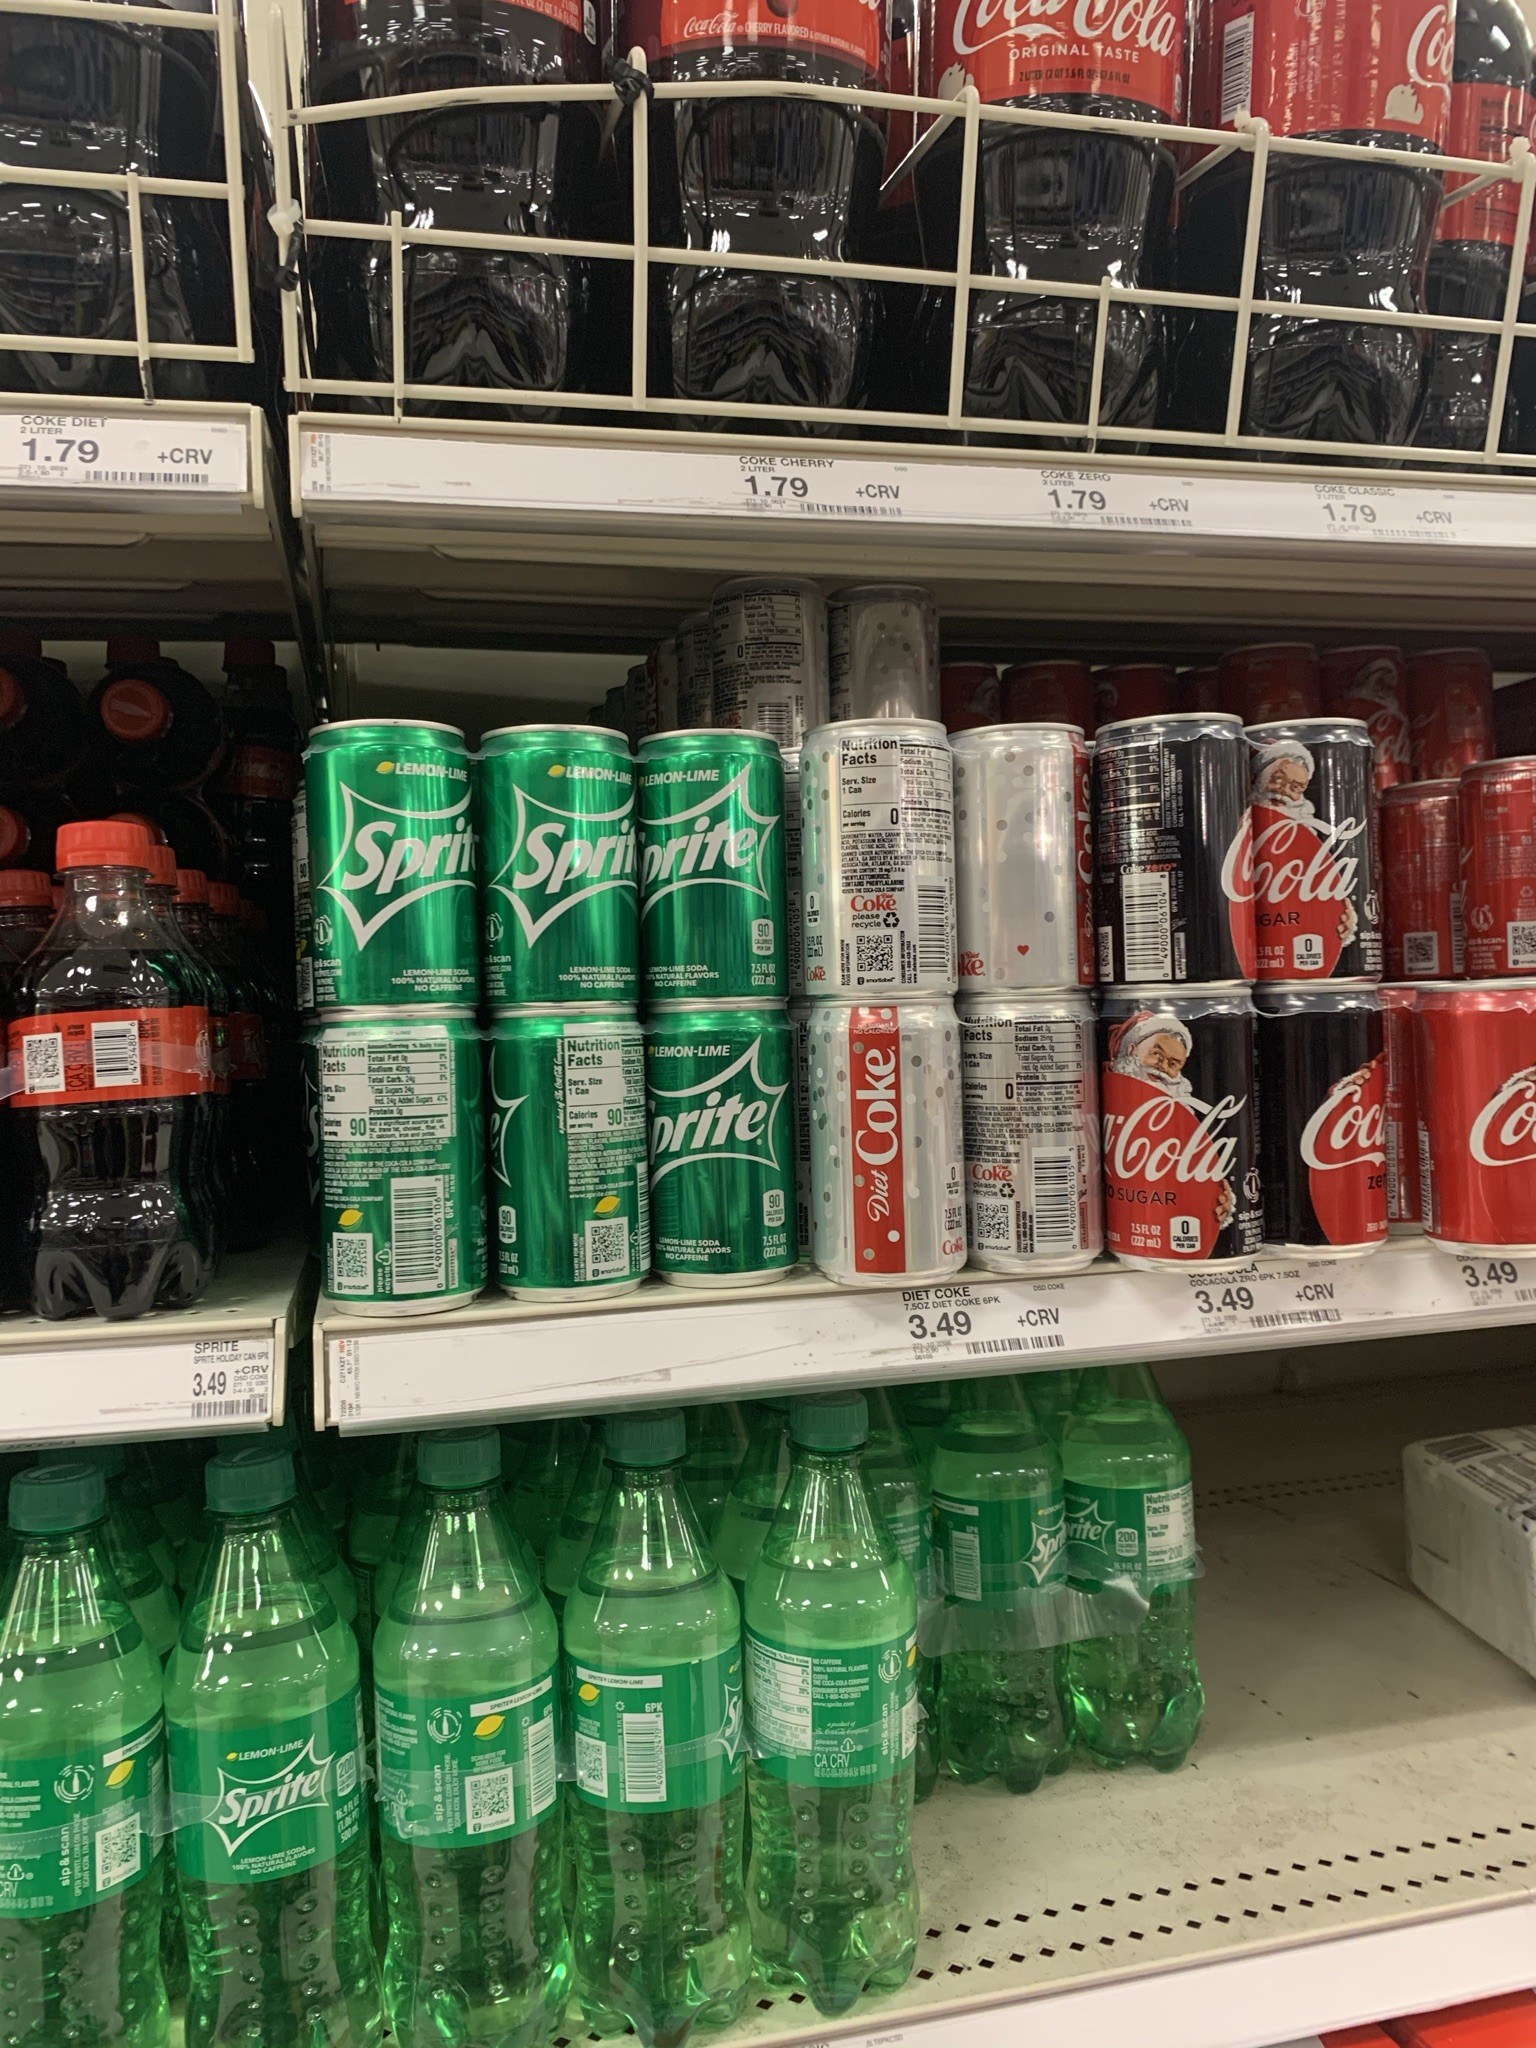can: (318, 739, 474, 1009), (331, 1032, 481, 1308), (803, 732, 954, 997), (486, 735, 632, 1001), (502, 1026, 645, 1297), (815, 1019, 957, 1284), (963, 1009, 1100, 1268), (1112, 732, 1252, 984), (660, 1026, 794, 1284), (1113, 1014, 1249, 1268), (652, 740, 783, 1000), (965, 735, 1091, 984), (1263, 726, 1384, 984), (1270, 1008, 1391, 1250), (1431, 989, 1536, 1250)
